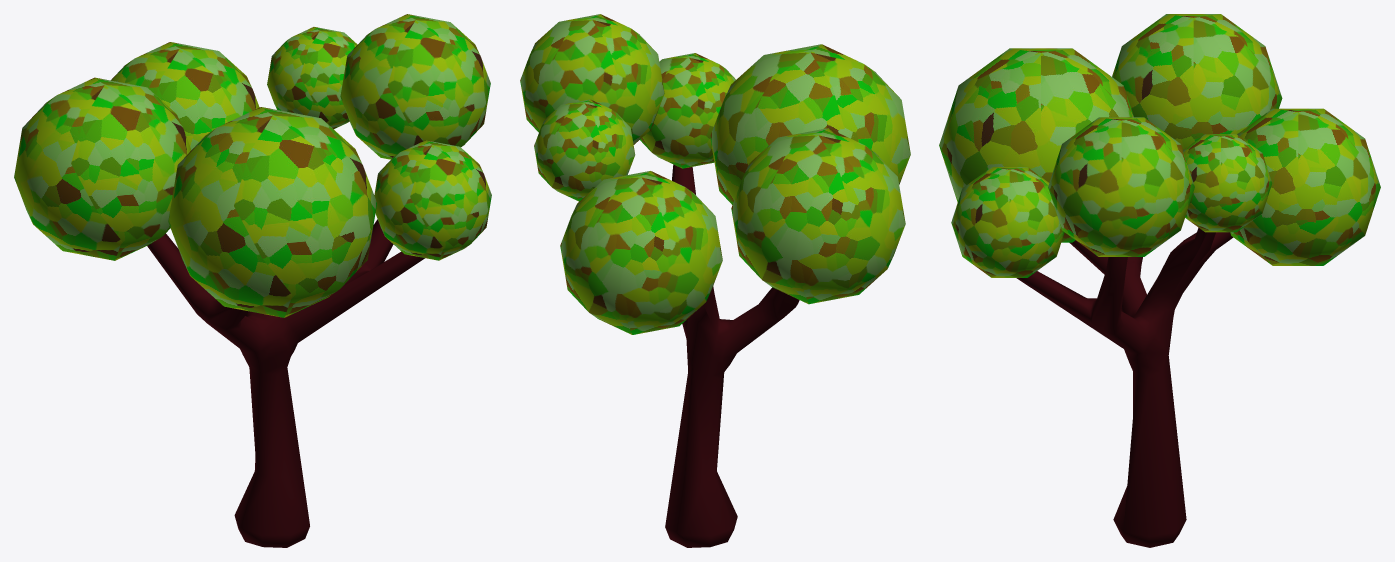
File: Tree_Park_1.fbx
3 views of the same model, side by side, from view 1: azimuth 30°, elevation 25°; view 2: azimuth 150°, elevation 25°; view 3: azimuth 270°, elevation 25° (orthographic). The views are drawn at different scales.
Parts seen in each view (by area): view 1: Leaf.005, Leaf, Stem.001, Leaf.004, Leaf.001, Leaf.002, Leaf.003; view 2: Leaf, Leaf.002, Leaf.005, Stem.001, Leaf.004, Leaf.003, Leaf.001; view 3: Stem.001, Leaf.005, Leaf.002, Leaf.004, Leaf, Leaf.001, Leaf.003.
Part boxes in pixels (box(x1,y1,x2,y2)): Leaf.005: box(168, 107, 376, 317); Leaf: box(14, 77, 191, 260); Stem.001: box(147, 219, 424, 547); Leaf.004: box(340, 14, 490, 159); Leaf.001: box(374, 140, 491, 260); Leaf.002: box(111, 42, 259, 149); Leaf.003: box(267, 27, 357, 129); Leaf: box(731, 128, 905, 304); Leaf.002: box(560, 171, 722, 334); Leaf.005: box(710, 44, 910, 204); Stem.001: box(665, 164, 799, 547); Leaf.004: box(520, 14, 664, 144); Leaf.003: box(534, 99, 635, 201); Leaf.001: box(640, 53, 735, 168); Stem.001: box(1016, 227, 1233, 547); Leaf.005: box(939, 48, 1133, 242); Leaf.002: box(1230, 108, 1380, 265); Leaf.004: box(1048, 117, 1194, 256); Leaf: box(1112, 14, 1282, 149); Leaf.001: box(951, 167, 1064, 277); Leaf.003: box(1183, 134, 1272, 232).
Bounding box in the file's own units: 5.8 × 6.74 × 5.63.
2 materials, 1 textured.
